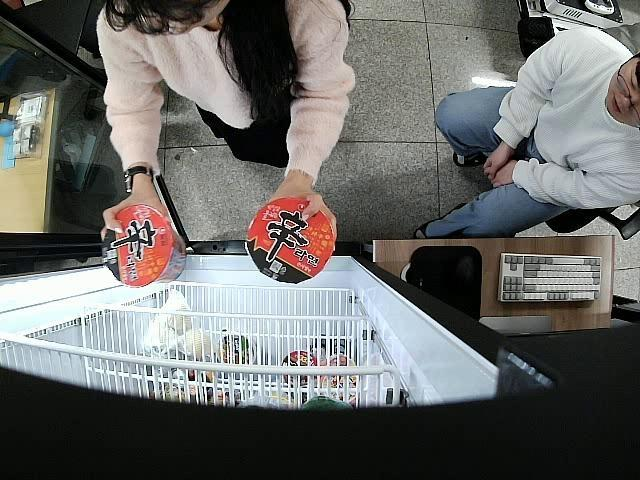01_ShinRamen_L: (244, 195, 336, 285), (100, 204, 189, 290)
